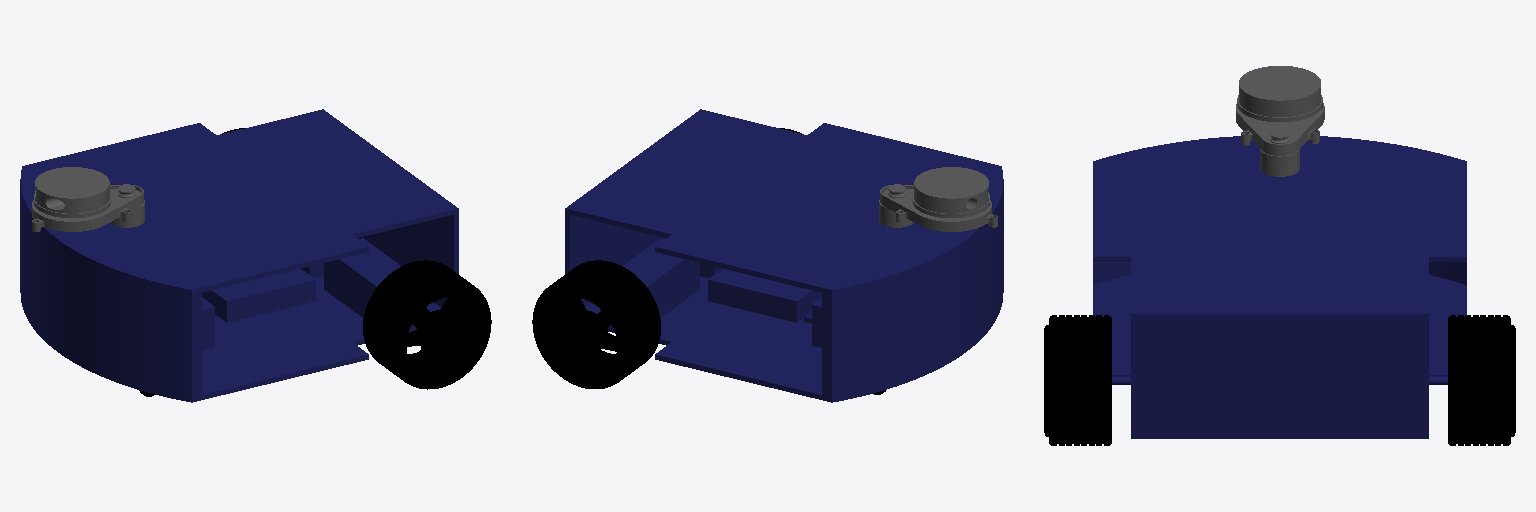
The robot description file, URDF, robot "iam_bot":
<?xml version='1.0' encoding='utf-8'?>
<robot name="iam_bot">

    <material name="CHASIS_BLUE">
        <color rgba="0.153 0.165 0.412 1"/>
    </material>

    <material name="WHEEL_BLACK">
        <color rgba="0 0 0 1"/>
    </material>

    <material name="CASTER_SILVER">
        <color rgba="0.588 0.588 0.588 1"/>
    </material>

    <material name="LIDAR_GREY">
        <color rgba="0.392 0.392 0.392 1"/>
    </material>



    <link name="left_wheel">
        <inertial>
            <origin xyz="2.215487402943417e-06 -1.2770853251264923e-06 0.028132134803226502" rpy="0.0 -0.0 0.0" />
            <mass value="0.22391054430731744" />
            <inertia ixx="0.0002563571259650028" iyy="0.00025635048929468704" izz="0.0004042362139435962" ixy="1.3427957747461083e-13" iyz="7.380781082231419e-09" ixz="-1.2804091942524715e-08" />
        </inertial>
        <visual name="left_wheel_visual">
            <origin xyz="0.37160427410941455 0.031321737445734174 0.13277868183774832" rpy="3.0065623868209316e-15 9.473267377050172e-16 1.5707963267948957" />
            <geometry>
                <mesh filename="meshes/left_wheel.stl" scale="0.001 0.001 0.001" />
            </geometry>
            <material name="WHEEL_BLACK"/>
        </visual>
        <collision name="left_wheel_collision">
            <origin xyz="0.37160427410941455 0.031321737445734174 0.13277868183774832" rpy="3.0065623868209316e-15 9.473267377050172e-16 1.5707963267948957" />
            <geometry>
                <mesh filename="meshes/left_wheel.stl" scale="0.001 0.001 0.001" />
            </geometry>
        </collision>
    </link>

    <link name="base_link">
        <inertial>
            <origin xyz="-0.09398896984913316 -0.00033324205009904213 0.07713649206363926" rpy="0.0 0.0 0.0" />
            <mass value="2.072741935105781" />
            <inertia ixx="0.015324451649043452" iyy="0.029121616964427867" izz="0.03681388301778877" ixy="-4.936480620691103e-05" iyz="-1.4131264620040578e-05" ixz="0.00011474364571543993" />
        </inertial>
        <visual name="base_link_visual">
            <origin xyz="0.0 0.0 0.0" rpy="0.0 0.0 0.0" />
            <geometry>
                <mesh filename="meshes/base_link.stl" scale="0.001 0.001 0.001" />
            </geometry>
            <material name="CHASIS_BLUE"/>
        </visual>
        <collision name="base_link_collision">
            <origin xyz="0.0 0.0 0.0" rpy="0.0 0.0 0.0" />
            <geometry>
                <mesh filename="meshes/base_link_col.stl" scale="0.001 0.001 0.001" />
            </geometry>
        </collision>
    </link>

    <link name="top_lidar_sensor">
        <inertial>
            <origin xyz="0.02672210981515967 0.0002412625384381132 0.03237755864545555" rpy="0.0 -0.0 0.0" />
            <mass value="0.1901726292898517" />
            <inertia ixx="7.658129060059832e-05" iyy="0.00016331534109439126" izz="0.00018292909777217585" ixy="1.2253270879710822e-06" iyz="-6.807822780407632e-07" ixz="3.150541905402263e-05" />
        </inertial>
        <visual name="top_lidar_sensor_visual">
            <origin xyz="0.22158934999999993 0.00024120999999984366 -0.21008004999999996" rpy="4.930380657631321e-32 -0.0 0.0" />
            <geometry>
                <mesh filename="meshes/top_lidar_sensor.stl" scale="0.001 0.001 0.001" />
            </geometry>
            <material name="LIDAR_GREY"/>
        </visual>
        <collision name="top_lidar_sensor_collision">
            <origin xyz="0.22158934999999993 0.00024120999999984366 -0.21008004999999996" rpy="4.930380657631321e-32 -0.0 0.0" />
            <geometry>
                <mesh filename="meshes/top_lidar_sensor.stl" scale="0.001 0.001 0.001" />
            </geometry>
        </collision>
    </link>

    <link name="right_caster_connector">
        <inertial>
            <origin xyz="0.001405011953905806 2.106191058315332e-05 -0.0042219422652539865" rpy="0.0 -0.0 0.0" />
            <mass value="0.003960896655885569" />
            <inertia ixx="1.5703162104020672e-07" iyy="1.6777567965928458e-07" izz="1.7443859290356117e-07" ixy="-5.709200945051732e-10" iyz="8.589987253253116e-10" ixz="4.1927853383486225e-08" />
        </inertial>
        <visual name="right_caster_connector_visual">
            <origin xyz="0.20483935 -0.06500879000000001 -0.02858005" rpy="0.0 -0.0 0.0" />
            <geometry>
                <mesh filename="meshes/right_caster_connector.stl" scale="0.001 0.001 0.001" />
            </geometry>
            <material name="CASTER_SILVER"/>
        </visual>
        <collision name="right_caster_connector_collision">
            <origin xyz="0.20483935 -0.06500879000000001 -0.02858005" rpy="0.0 -0.0 0.0" />
            <geometry>
                <mesh filename="meshes/right_caster_connector.stl" scale="0.001 0.001 0.001" />
            </geometry>
        </collision>
    </link>

    <link name="right_caster_wheel">
        <inertial>
            <origin xyz="4.658980934379997e-09 1.4002450643424425e-09 0.003312139955989153" rpy="0.0 -0.0 0.0" />
            <mass value="0.014985308319104898" />
            <inertia ixx="4.3853143064445654e-07" iyy="4.3853142698072056e-07" izz="7.995957318055781e-07" ixy="-6.776263578034403e-21" iyz="0.0" ixz="1.463672932855431e-18" />
        </inertial>
        <visual name="right_caster_wheel_visual">
            <origin xyz="0.19659 -0.0140602 0.06830879000000001" rpy="-1.5707963267948966 -0.0 0.0" />
            <geometry>
                <mesh filename="meshes/right_caster_wheel.stl" scale="0.001 0.001 0.001" />
            </geometry>
            <material name="WHEEL_BLACK"/>
        </visual>
        <collision name="right_caster_wheel_collision">
            <origin xyz="0.19659 -0.0140602 0.06830879000000001" rpy="-1.5707963267948966 -0.0 0.0" />
            <geometry>
                <mesh filename="meshes/right_caster_wheel.stl" scale="0.001 0.001 0.001" />
            </geometry>
        </collision>
    </link>

    <link name="left_caster_connector">
        <inertial>
            <origin xyz="0.001405011953904811 2.1061910583277665e-05 -0.004221942265253933" rpy="0.0 -0.0 0.0" />
            <mass value="0.003960896655885583" />
            <inertia ixx="1.5703162104011186e-07" iyy="1.6777567965852564e-07" izz="1.744385929027209e-07" ixy="-5.709200946271459e-10" iyz="8.589987253464874e-10" ixz="4.192785338341846e-08" />
        </inertial>
        <visual name="left_caster_connector_visual">
            <origin xyz="0.20483935 0.06999121000000003 -0.0035800499999999948" rpy="0.0 -0.0 0.0" />
            <geometry>
                <mesh filename="meshes/left_caster_connector.stl" scale="0.001 0.001 0.001" />
            </geometry>
            <material name="CASTER_SILVER"/>
        </visual>
        <collision name="left_caster_connector_collision">
            <origin xyz="0.20483935 0.06999121000000003 -0.0035800499999999948" rpy="0.0 -0.0 0.0" />
            <geometry>
                <mesh filename="meshes/left_caster_connector.stl" scale="0.001 0.001 0.001" />
            </geometry>
        </collision>
    </link>

    <link name="left_caster_wheel">
        <inertial>
            <origin xyz="4.65898079227145e-09 -1.4002450621219965e-09 -0.0030121399559891503" rpy="0.0 -0.0 0.0" />
            <mass value="0.007044049388216182" />
            <inertia ixx="2.0613770434115268e-07" iyy="2.061377026189382e-07" izz="3.7586092361299424e-07" ixy="-3.38813178901459e-21" iyz="-3.1699860619156578e-21" ixz="-7.085104434733461e-19" />
        </inertial>
        <visual name="left_caster_wheel_visual">
            <origin xyz="0.195202854726494 -0.03091841522979793 0.06699120999999997" rpy="1.5707963267949003 -0.0 0.0" />
            <geometry>
                <mesh filename="meshes/left_caster_wheel.stl" scale="0.001 0.001 0.001" />
            </geometry>
            <material name="WHEEL_BLACK"/>
        </visual>
        <collision name="left_caster_wheel_collision">
            <origin xyz="0.195202854726494 -0.03091841522979793 0.06699120999999997" rpy="1.5707963267949003 -0.0 0.0" />
            <geometry>
                <mesh filename="meshes/left_caster_wheel.stl" scale="0.001 0.001 0.001" />
            </geometry>
        </collision>
    </link>

    <link name="right_wheel">
        <inertial>
            <origin xyz="-2.0393980372546137e-06 1.5439370204628489e-06 0.028132137687988515" rpy="0.0 -0.0 0.0" />
            <mass value="0.22391054430278606" />
            <inertia ixx="0.0002563570312582872" iyy="0.00025635053466559546" izz="0.00040423614978193575" ixy="-8.239692202193297e-10" iyz="-8.916929031960175e-09" ixz="1.1760889383465728e-08" />
        </inertial>
        <visual name="right_wheel_visual">
            <origin xyz="-0.03480209 0.055330050000000006 -0.13473818" rpy="1.5707963267948966 -0.0 0.0" />
            <geometry>
                <mesh filename="meshes/right_wheel.stl" scale="0.001 0.001 0.001" />
            </geometry>
            <material name="WHEEL_BLACK"/>
        </visual>
        <collision name="right_wheel_collision">
            <origin xyz="-0.03480209 0.055330050000000006 -0.13473818" rpy="1.5707963267948966 -0.0 0.0" />
            <geometry>
                <mesh filename="meshes/right_wheel.stl" scale="0.001 0.001 0.001" />
            </geometry>
        </collision>
    </link>

    <joint name="left_wheel_Revolute" type="continuous">
        <origin xyz="0.03480209 -0.13487021000000002 0.055330050000000006" rpy="1.5707963267948966 -0.0 0.0" />
        <parent link="base_link" />
        <child link="left_wheel" />
        <axis xyz="0.0 0.0 1.0" />
    </joint>
    <joint name="right_wheel_Revolute" type="continuous">
        <origin xyz="0.03480209 0.13473818 0.055330050000000006" rpy="-1.5707963267948966 -0.0 0.0" />
        <parent link="base_link" />
        <child link="right_wheel" />
        <axis xyz="0.0 0.0 1.0" />
    </joint>
    <joint name="top_lidar_Rigid" type="fixed">
        <origin xyz="-0.24983935 8.79e-06 0.14008005" rpy="0.0 -0.0 0.0" />
        <parent link="base_link" />
        <child link="top_lidar_sensor" />
    </joint>
    <joint name="right_caster_Revolute" type="continuous">
        <origin xyz="-0.20483935 0.06500879000000001 0.02858005" rpy="0.0 -0.0 0.0" />
        <parent link="base_link" />
        <child link="right_caster_connector" />
        <axis xyz="0.0 0.0 1.0" />
    </joint>
    <joint name="right_caster_wheel_Revolute" type="continuous">
        <origin xyz="0.008249349999999999 0.003300000000000001 -0.014519849999999999" rpy="1.5707963267948966 -0.0 0.0" />
        <parent link="right_caster_connector" />
        <child link="right_caster_wheel" />
        <axis xyz="0.0 0.0 1.0" />
    </joint>
    <joint name="left_caster_Revolute" type="continuous">
        <origin xyz="-0.20483935 -0.06999121 0.02858005" rpy="0.0 -0.0 0.0" />
        <parent link="base_link" />
        <child link="left_caster_connector" />
        <axis xyz="0.0 0.0 1.0" />
    </joint>
    <joint name="left_caster_wheel_Revolute" type="continuous">
        <origin xyz="0.008249349999999999 0.003300000000000001 -0.014519849999999999" rpy="-1.5707963267949003 -0.0 0.0" />
        <parent link="left_caster_connector" />
        <child link="left_caster_wheel" />
        <axis xyz="0.0 -3.705369344686452e-15 1.0" />
    </joint>

    <gazebo reference="top_lidar_sensor">
        <sensor name="laser" type="gpu_lidar">
            <pose> 0 0 0 0 0 0 </pose>
            <always_on>true</always_on>
            <visualize>true</visualize>
            <update_rate>10</update_rate>
            <topic>scan</topic>
            <lidar>
                <scan>
                    <horizontal>
                        <samples>360</samples>
                        <min_angle>-3.14</min_angle>
                        <max_angle>3.14</max_angle>
                    </horizontal>
                </scan>
                <range>
                    <min>0.3</min>
                    <max>12</max>
                </range>
            </lidar>
        </sensor>
    </gazebo>    
</robot>

--- Render facts (derived) ---
The picture shows the robot from 3 angles, left to right: view 1: azimuth 30°, elevation 25°; view 2: azimuth 150°, elevation 25°; view 3: azimuth 270°, elevation 25°; orthographic projection.
Robot: iam_bot — 8 links, 7 joints (6 continuous, 1 fixed); root link base_link; default pose: every joint at zero.
Visible links, largest first — view 1: base_link, left_wheel, top_lidar_sensor; view 2: base_link, right_wheel, top_lidar_sensor; view 3: base_link, left_wheel, right_wheel, top_lidar_sensor.
Link boxes in pixels (<box>): base_link: <box>20,109,458,402</box>; left_wheel: <box>363,260,491,389</box>; top_lidar_sensor: <box>32,167,144,231</box>; base_link: <box>565,109,1003,402</box>; right_wheel: <box>532,260,660,388</box>; top_lidar_sensor: <box>879,167,997,231</box>; base_link: <box>1093,136,1466,438</box>; left_wheel: <box>1044,315,1111,445</box>; right_wheel: <box>1448,315,1515,445</box>; top_lidar_sensor: <box>1236,66,1324,176</box>.
Bounding box of the posed robot: 0.3693 × 0.3776 × 0.1898 m (x, y, z).
8 mesh visuals loaded from 8 distinct referenced files (8 binary STL).